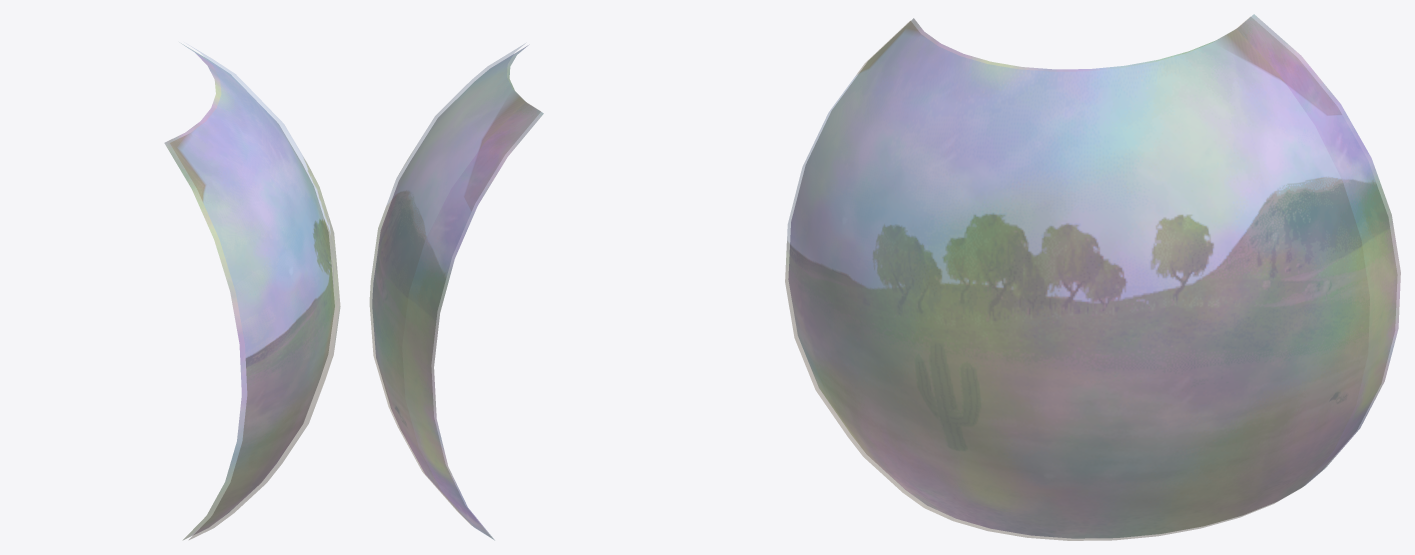
Rendered from bubble_desert2.glb.
3 views of the same model, side by side, from view 1: azimuth 30°, elevation 25°; view 2: azimuth 150°, elevation 25°; view 3: azimuth 270°, elevation 25° (orthographic). The views are drawn at different scales.
Parts seen in each view (by area): view 1: bubble.png__, envmap4.png__; view 2: bubble.png__, envmap4.png__; view 3: bubble.png__, envmap4.png__.
Boxes of the visible parts, bbox=[...] form: bubble.png__: bbox=[164, 43, 334, 539]; envmap4.png__: bbox=[170, 45, 340, 539]; bubble.png__: bbox=[372, 45, 543, 540]; envmap4.png__: bbox=[370, 43, 540, 536]; bubble.png__: bbox=[788, 14, 1400, 538]; envmap4.png__: bbox=[785, 17, 1396, 540].
Bounding box in the file's own units: 0.6215 × 1.1 × 1.31.
2 materials, 2 textured.
